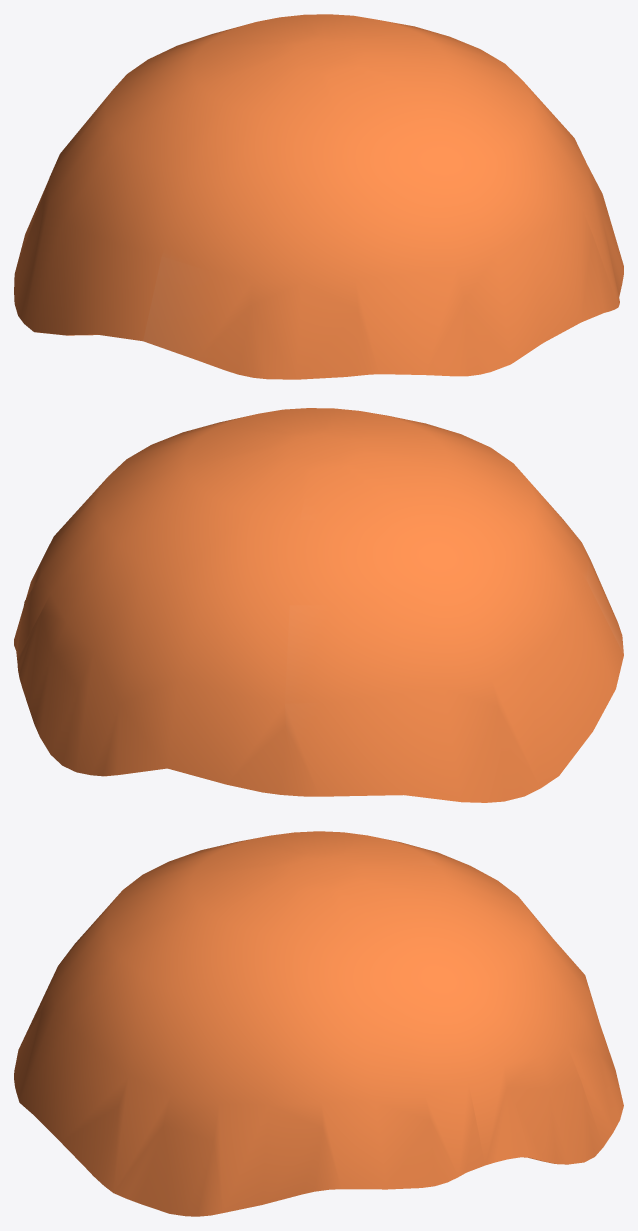
The model's file is Ice Cream Chocolate Caramel.fbx.
3 renders of one model, top to bottom at view 1: azimuth 30°, elevation 25°; view 2: azimuth 150°, elevation 25°; view 3: azimuth 270°, elevation 25°, orthographic. The views are drawn at different scales.
Visible parts, largest first — view 1: Ice Cream Chocolate Caramel; view 2: Ice Cream Chocolate Caramel; view 3: Ice Cream Chocolate Caramel.
Boxes of the visible parts, x1,y1,x2,y2 form: Ice Cream Chocolate Caramel: [14, 14, 623, 379]; Ice Cream Chocolate Caramel: [14, 408, 623, 802]; Ice Cream Chocolate Caramel: [14, 831, 623, 1216].
Bounding box in the file's own units: 0.4558 × 0.2021 × 0.4643.
